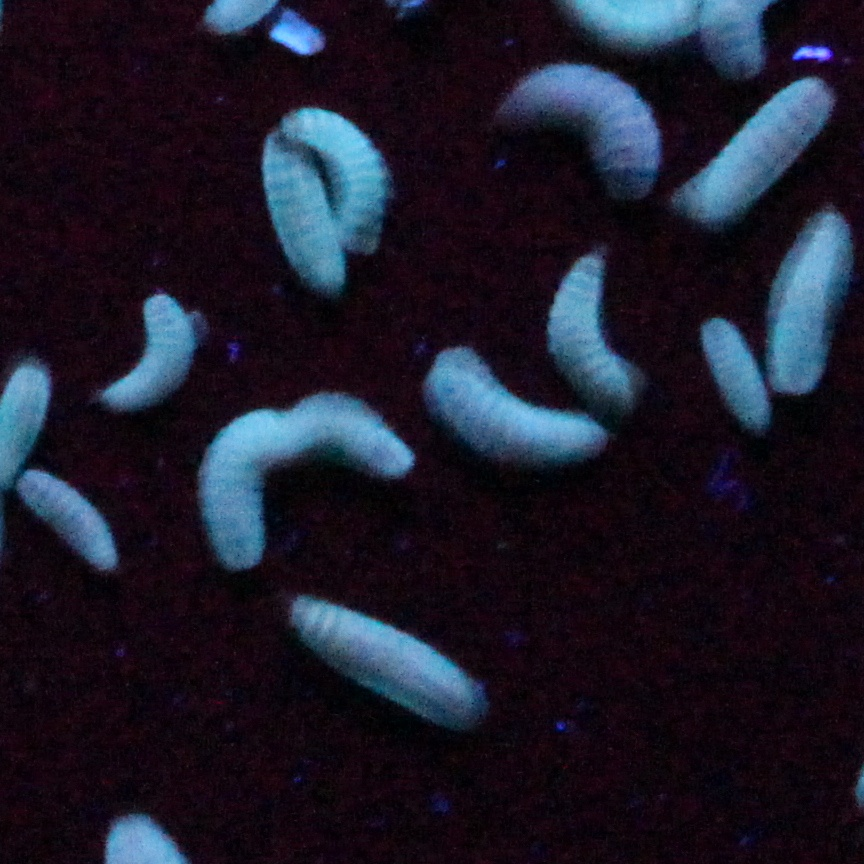larve: (290, 593, 478, 727), (419, 348, 606, 456), (685, 90, 831, 217), (526, 70, 659, 198), (545, 248, 647, 413), (285, 98, 389, 251), (254, 128, 348, 296), (100, 279, 197, 411), (202, 410, 282, 570), (775, 229, 848, 389), (290, 390, 410, 476), (14, 473, 116, 568), (693, 315, 768, 428)
